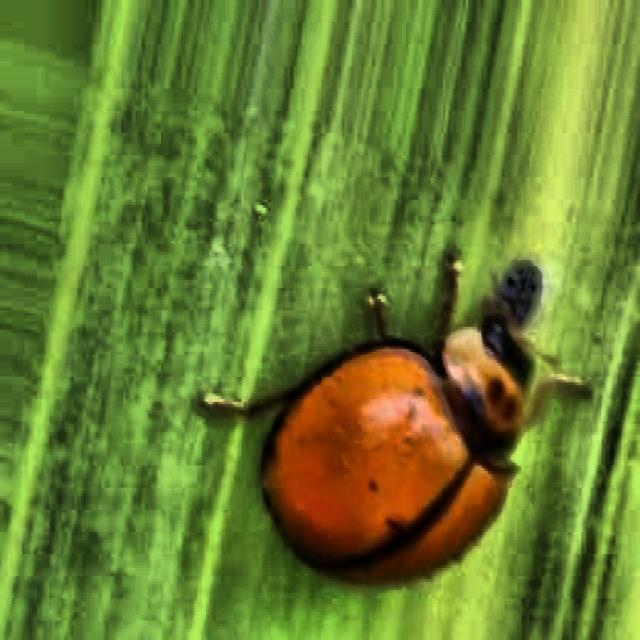Ladybug: (204, 233, 573, 602)
